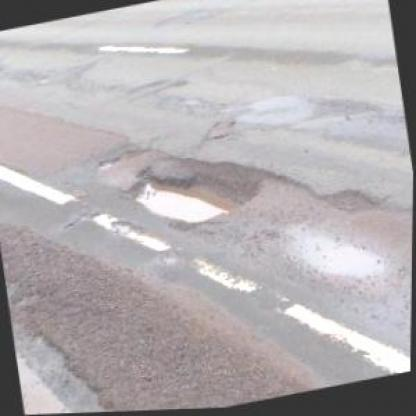pothole: (119, 140, 266, 241), (324, 183, 380, 225), (94, 152, 121, 172)
